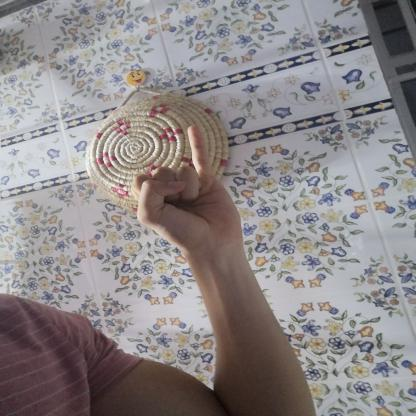MEEM: (115, 113, 261, 256)
